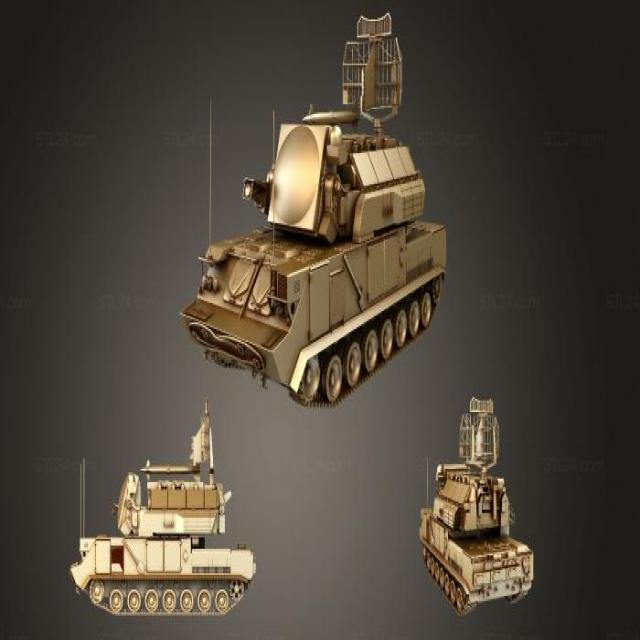MIL_EW_RDR: (178, 13, 449, 410), (69, 406, 258, 619), (419, 392, 536, 616)
